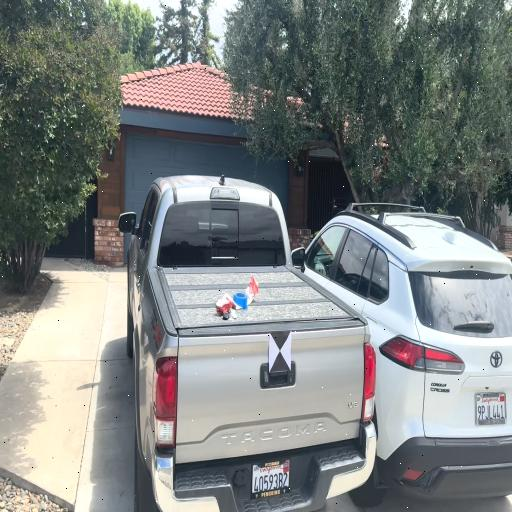target: (269, 331, 292, 372)
